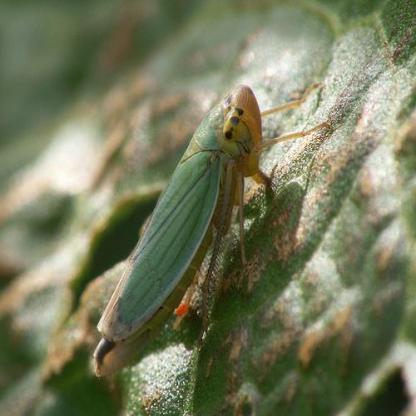Green-Leafhopper: (90, 82, 308, 376)
